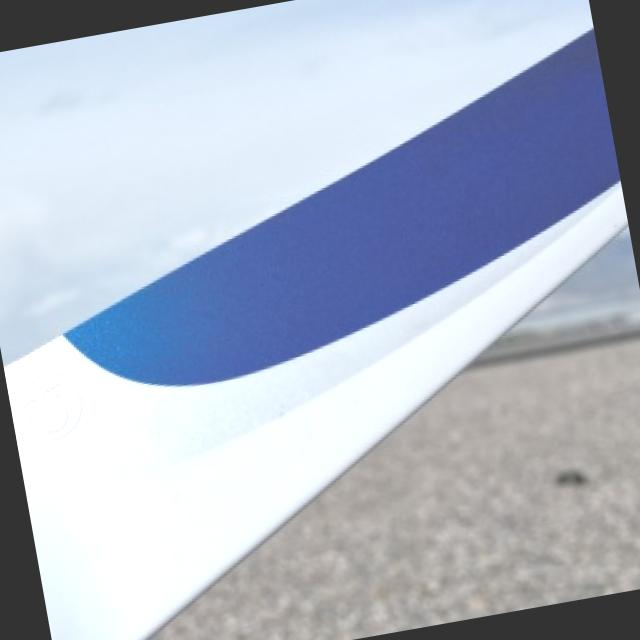healthy: (7, 29, 625, 640), (21, 224, 608, 640)
